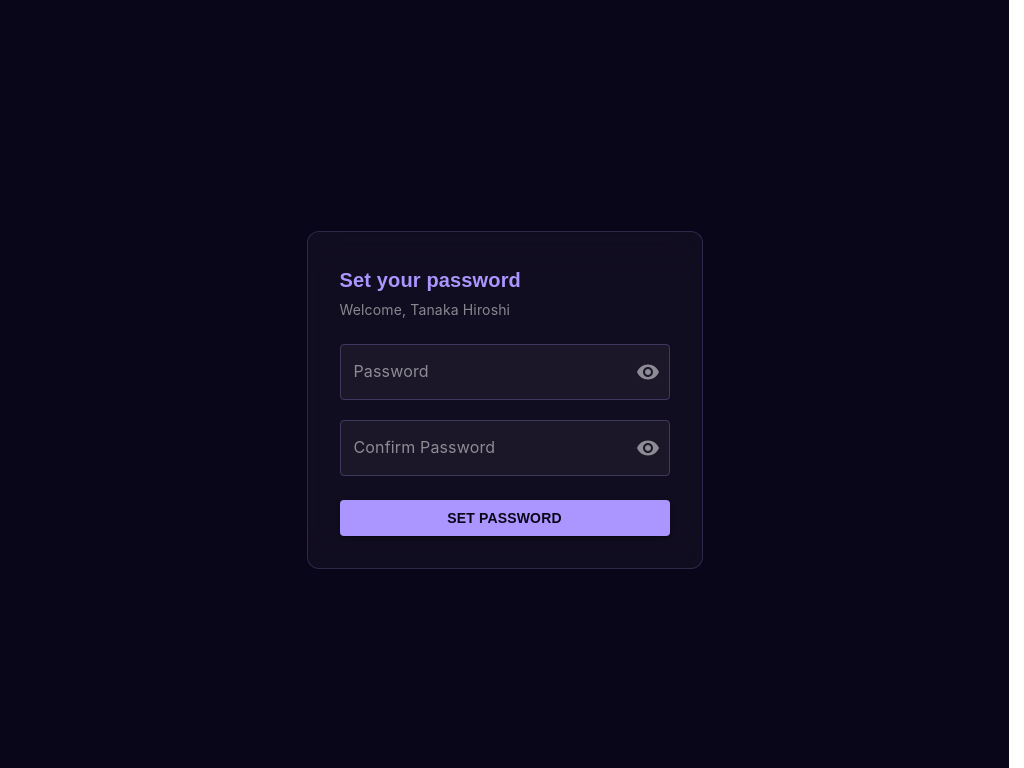
Test: SetPassword › valid token › shows a validation error when password too short
The width and height of the screenshot is (1024, 768).
Type "short" into the password field labelled "Password".
click(480, 372); type("short")  # box [340, 344, 620, 400]
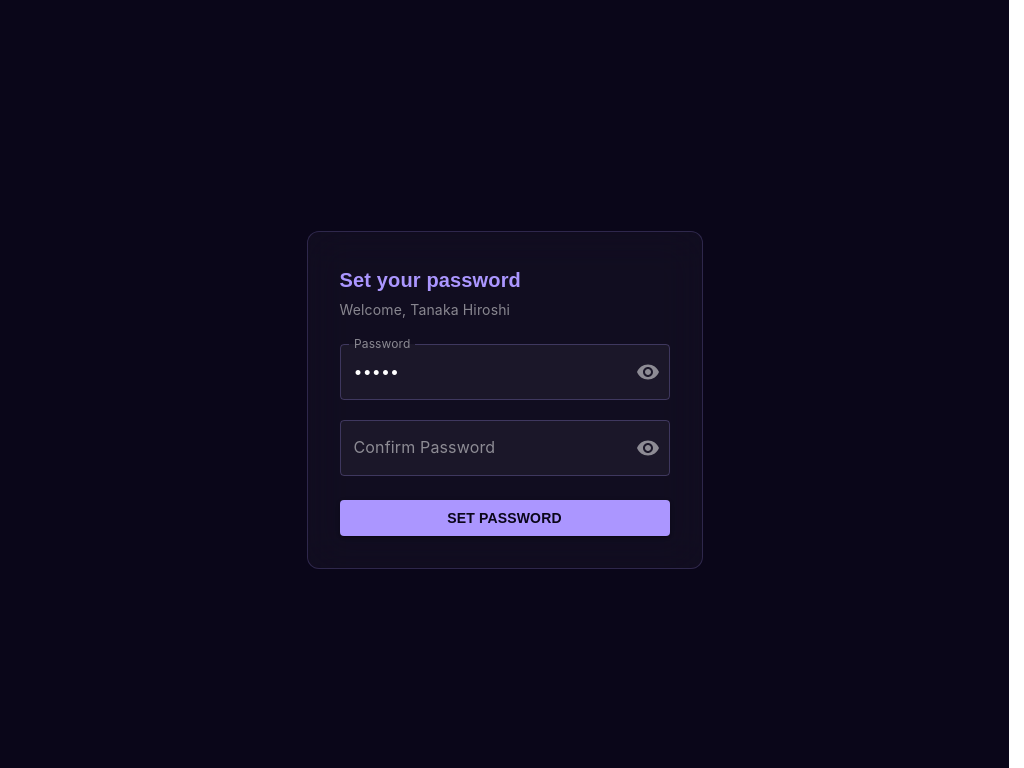
Type "short" into the password field labelled "Confirm Password".
click(480, 448); type("short")  # box [340, 420, 620, 476]
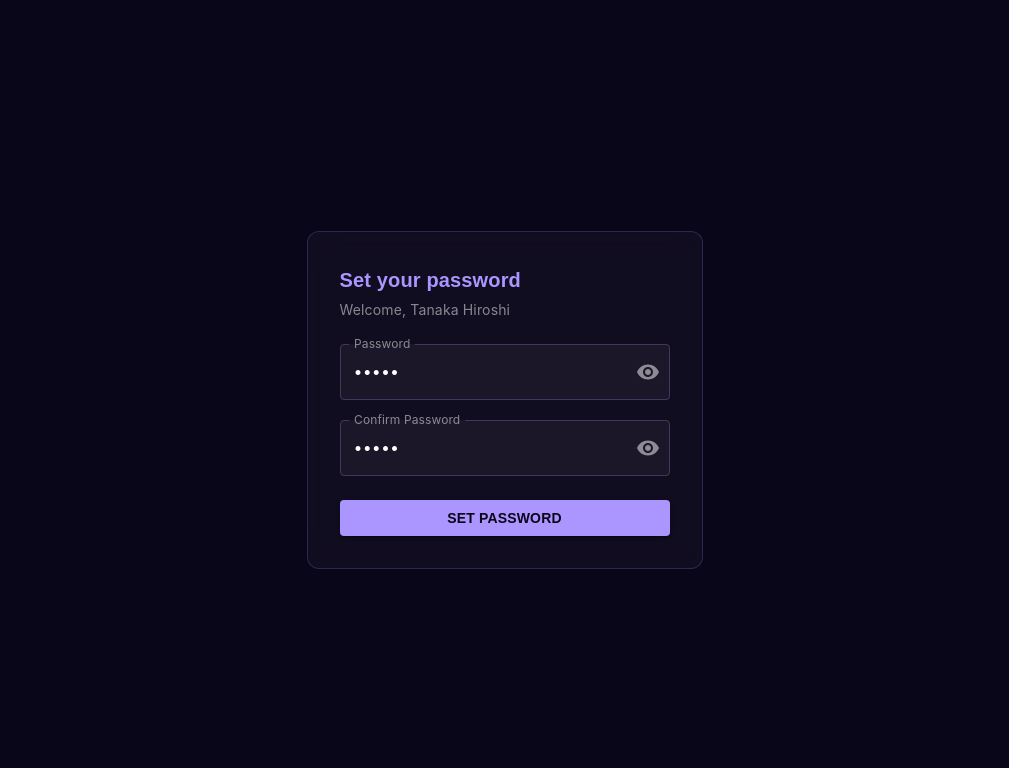
Click the button "Set password".
click(504, 518)  # box [340, 500, 670, 536]
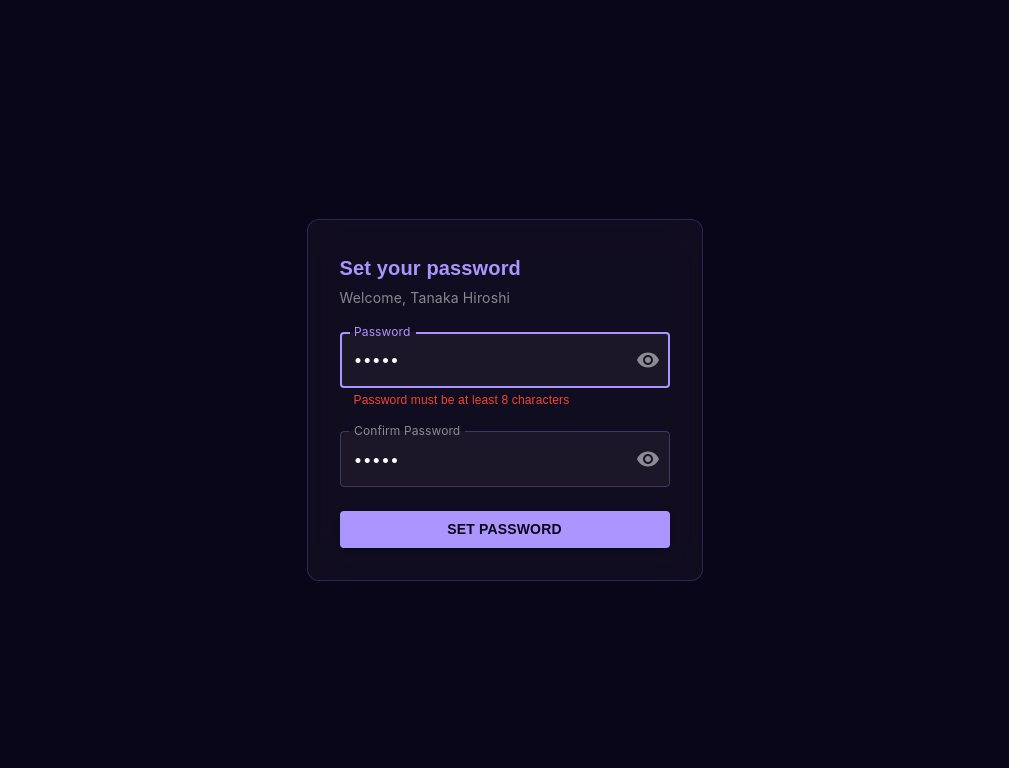
Check: the text "Password must be at least 8 characters" is shown, box [354, 393, 569, 407]
